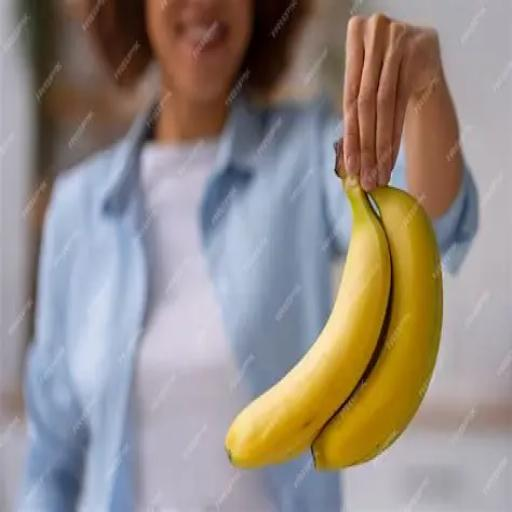banana: (225, 179, 391, 468), (313, 187, 442, 469)
